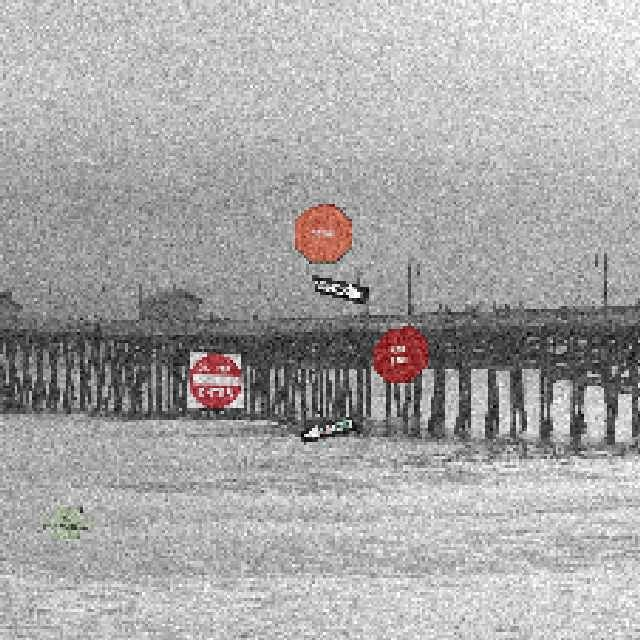DO_NOT_ENTER: (184, 350, 242, 408)
FAKE_STOP: (371, 324, 427, 382)
GO_AROUND: (35, 504, 93, 538)
ONE_WAY_ left: (298, 414, 356, 442)
ONE_WAY_ right: (310, 273, 368, 303)
STOP: (292, 203, 350, 261)
